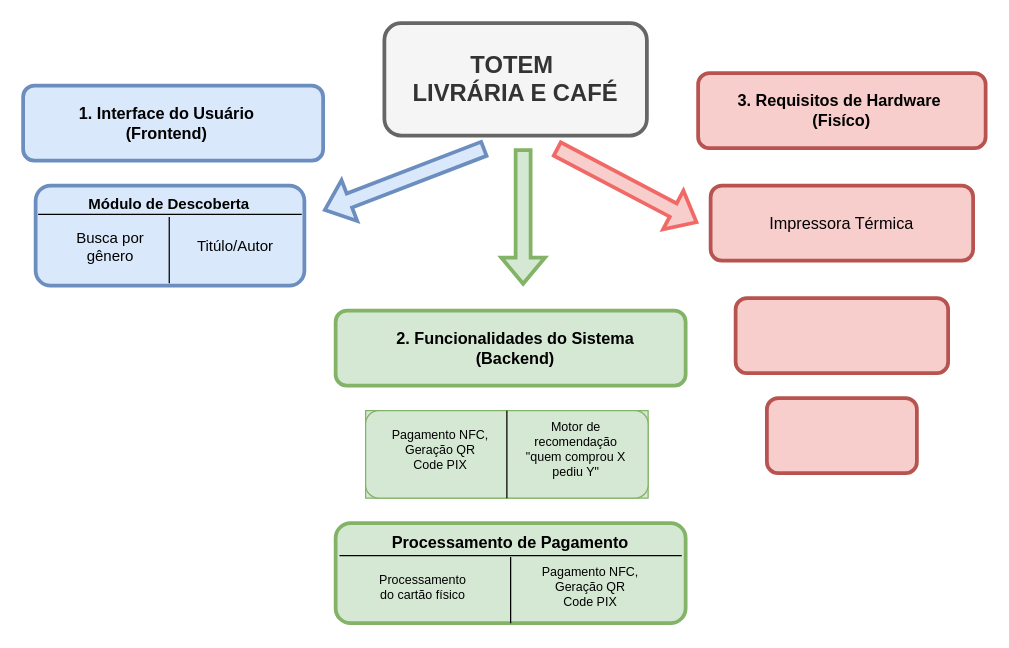
Image size: 1009x648. Some labels were removed from this diagram. The centre of each missing label's shape, as x and y in pixels:
"Leitor de Cartão (Maquininha)" goes at point (841, 335).
"Tela Touch" goes at point (841, 435).
